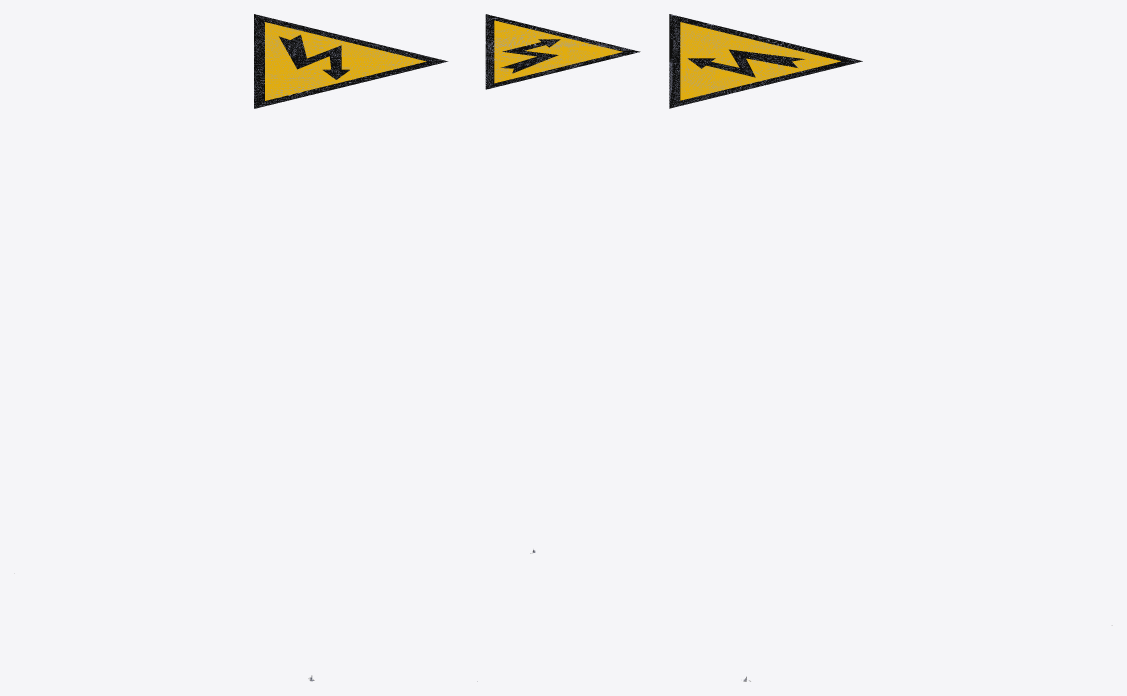
The model's file is BioenergyFacility.dae.
3 renders of one model, left to right at view 1: azimuth 30°, elevation 25°; view 2: azimuth 150°, elevation 25°; view 3: azimuth 270°, elevation 25°, orthographic. The views are drawn at different scales.
Visible parts, largest first — view 1: group_0 (×3); view 2: group_0 (×3); view 3: group_0 (×3).
Boxes of the visible parts, left/top/right/bottom form: group_0 (×3): left=254, top=14, right=448, bottom=108; group_0 (×3): left=485, top=14, right=640, bottom=89; group_0 (×3): left=669, top=14, right=862, bottom=108.
Bounding box in the file's own units: 4485 × 8137 × 12574.
